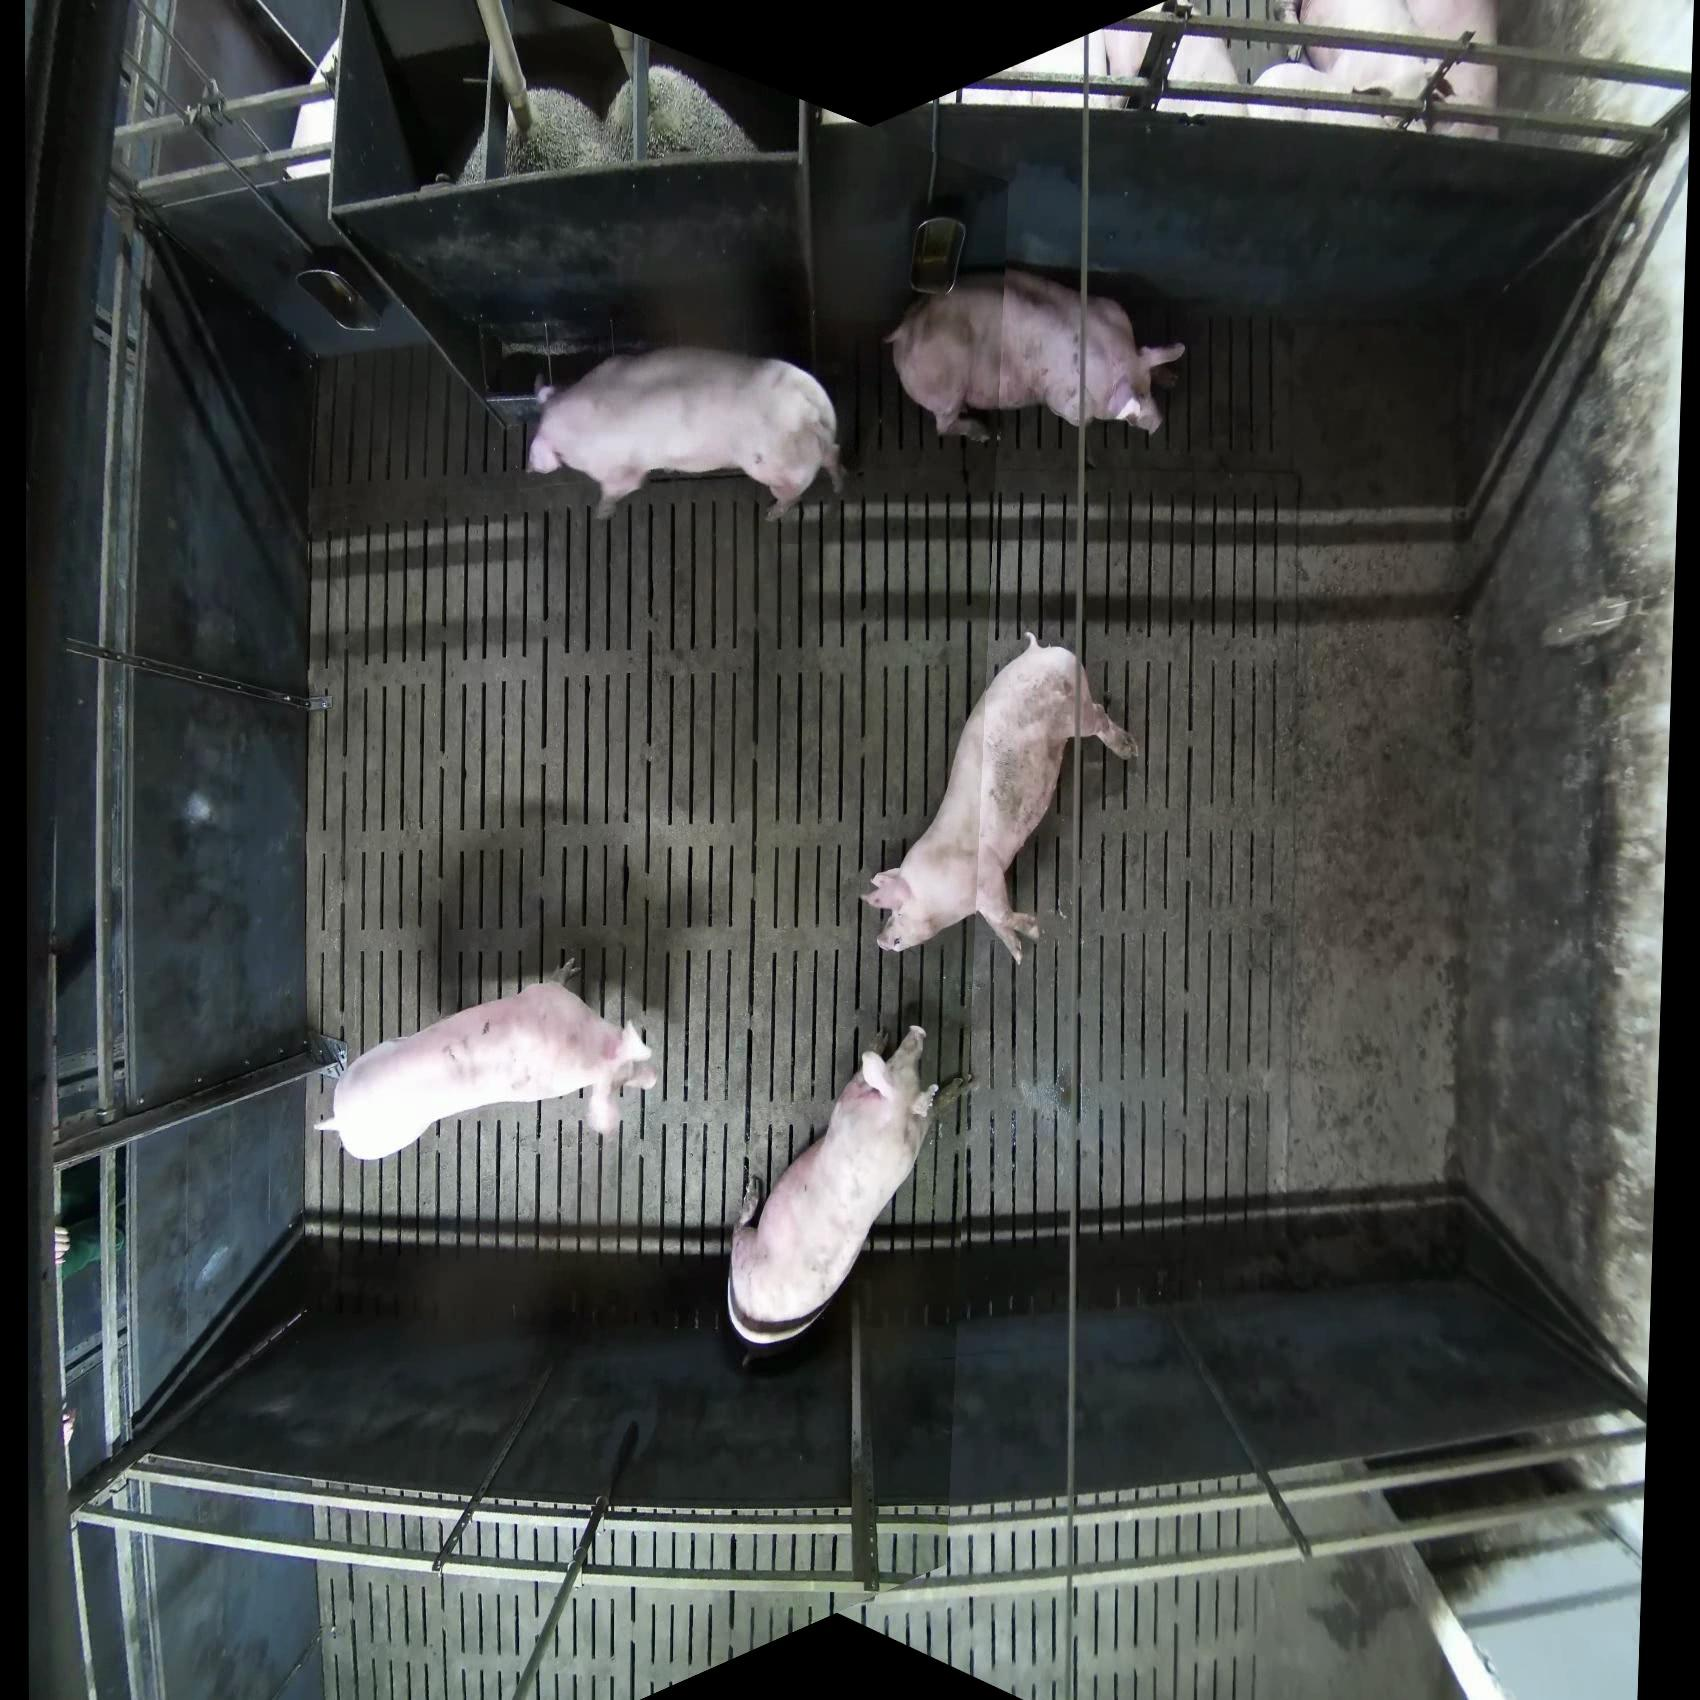pig: (859, 629, 1140, 967), (724, 1024, 950, 1350), (316, 954, 660, 1163), (526, 346, 845, 525), (884, 268, 1186, 444), (1249, 2, 1501, 140), (1091, 20, 1247, 118)
